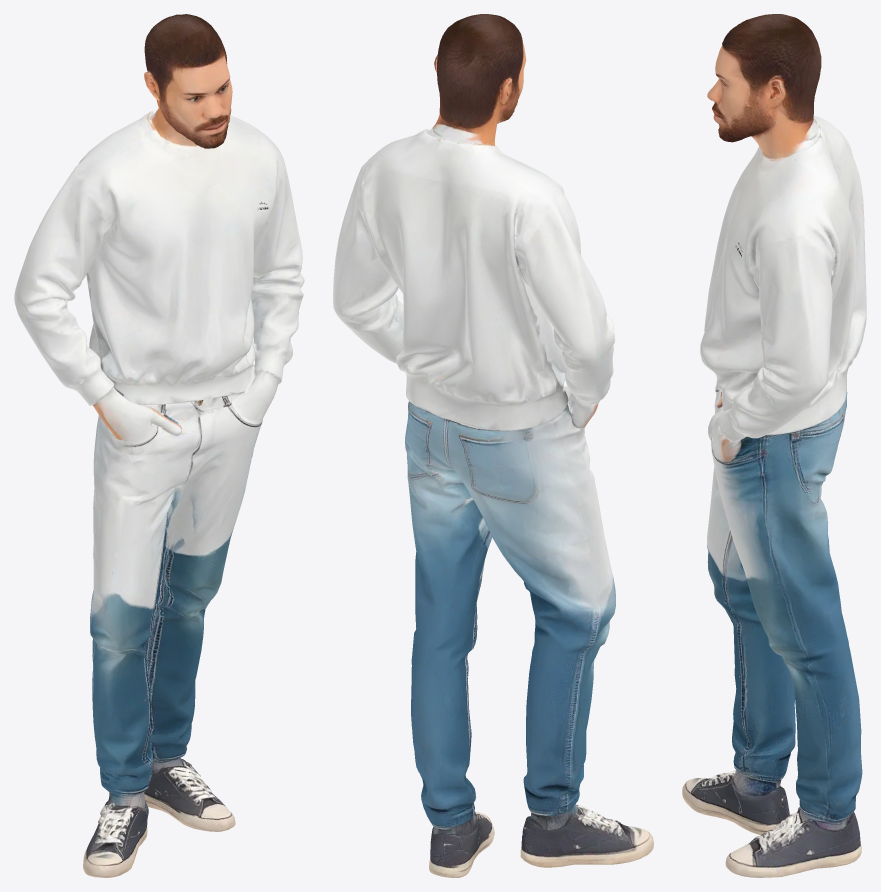
File: person_showcase.glb
The picture shows the model from 3 angles, left to right: view 1: azimuth 30°, elevation 25°; view 2: azimuth 150°, elevation 25°; view 3: azimuth 270°, elevation 25°; orthographic projection. The views are drawn at different scales.
Bounding box in the file's own units: 0.6658 × 1.9 × 0.3771.
Materials: 1 (1 with a texture image).
